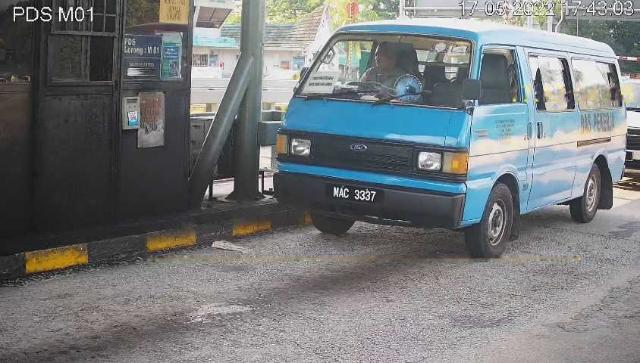License_Plate: (325, 182, 387, 211)
van: (275, 20, 630, 258)
